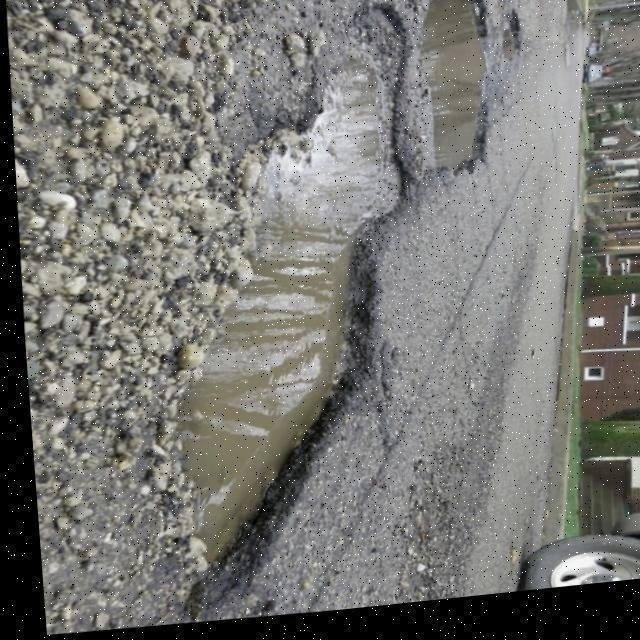pothole: (126, 1, 436, 612), (408, 0, 542, 186)
